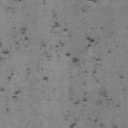oxide scale of temperature system: (40, 10, 126, 108), (0, 26, 30, 61), (0, 72, 22, 112), (87, 116, 119, 128), (6, 0, 22, 14), (82, 0, 98, 13), (64, 117, 76, 128), (26, 67, 30, 75), (42, 76, 48, 80), (42, 0, 46, 5)
